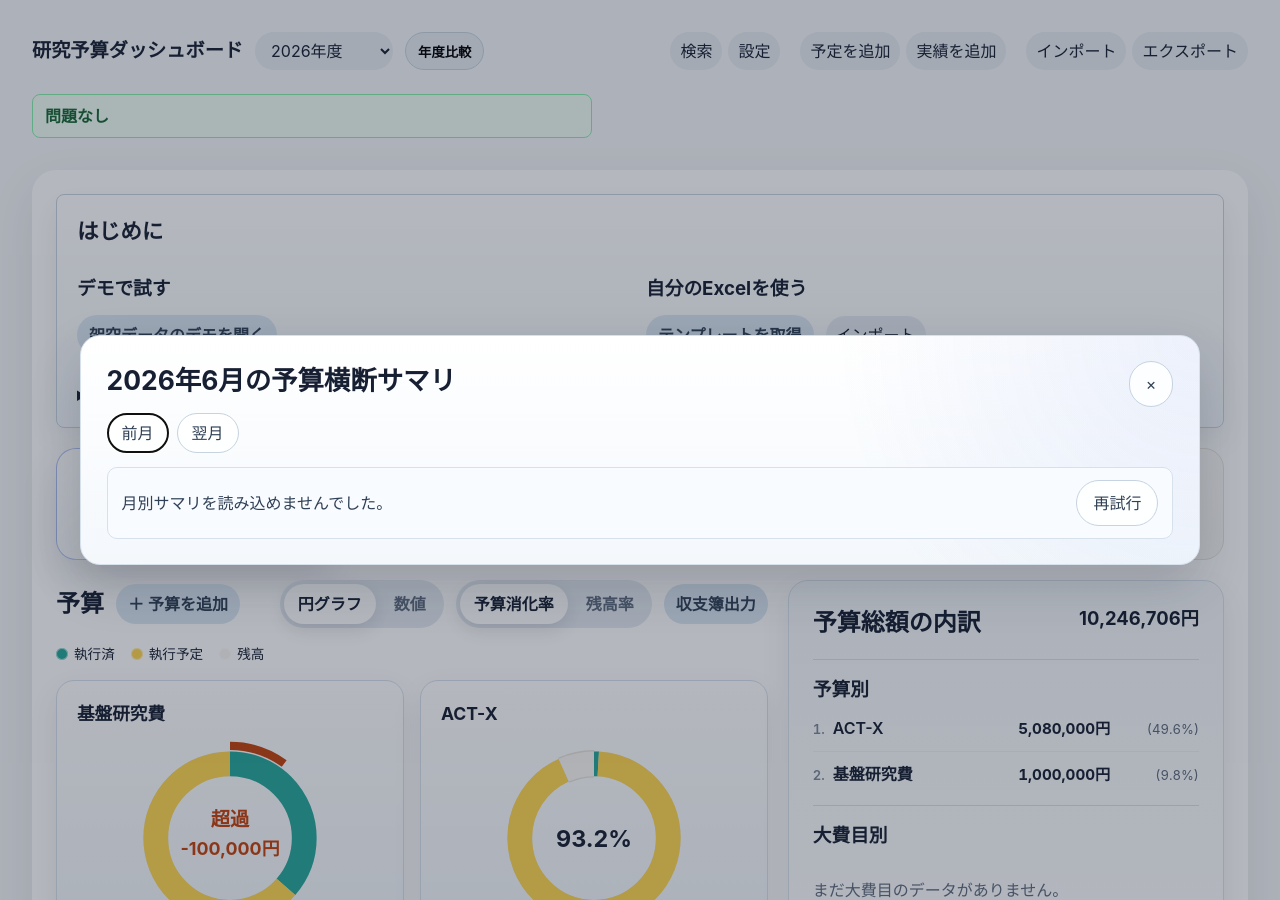
Test: Overview display › keeps the dialog open and retries after a monthly summary request fails
expect the message shows "月別サマリを読み込めませんでした": met, box [122, 493, 392, 513]
expect the dialog "2026年6月の予算横断サマリ" is shown: met, box [80, 335, 1200, 565]
Click the button "再試行" at (1117, 503), box [1076, 480, 1158, 526]
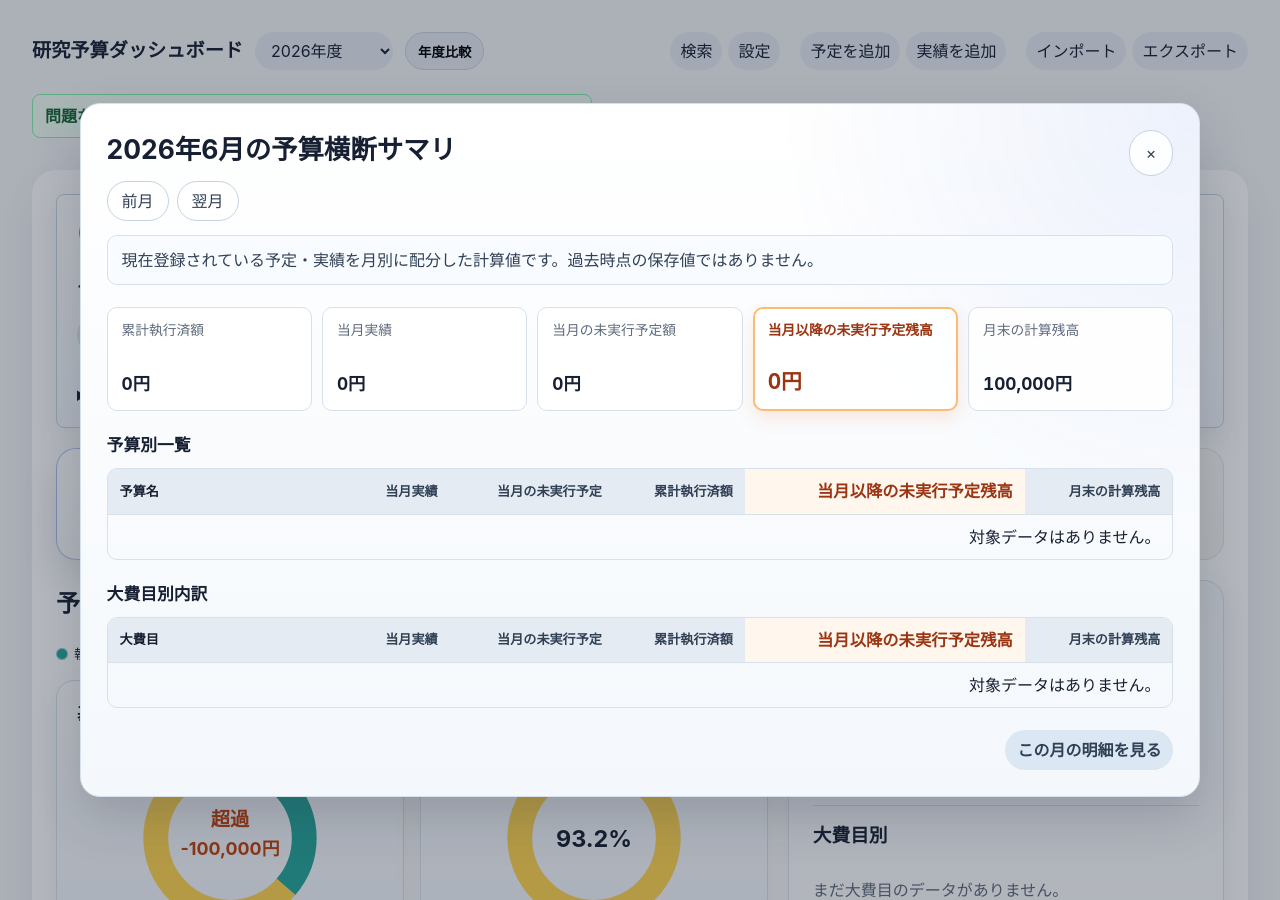
expect the text "現在登録されている予定・実績を月別に配分した計算値です。過去時点の保存値ではありません。" is shown: met, box [107, 235, 1173, 285]
